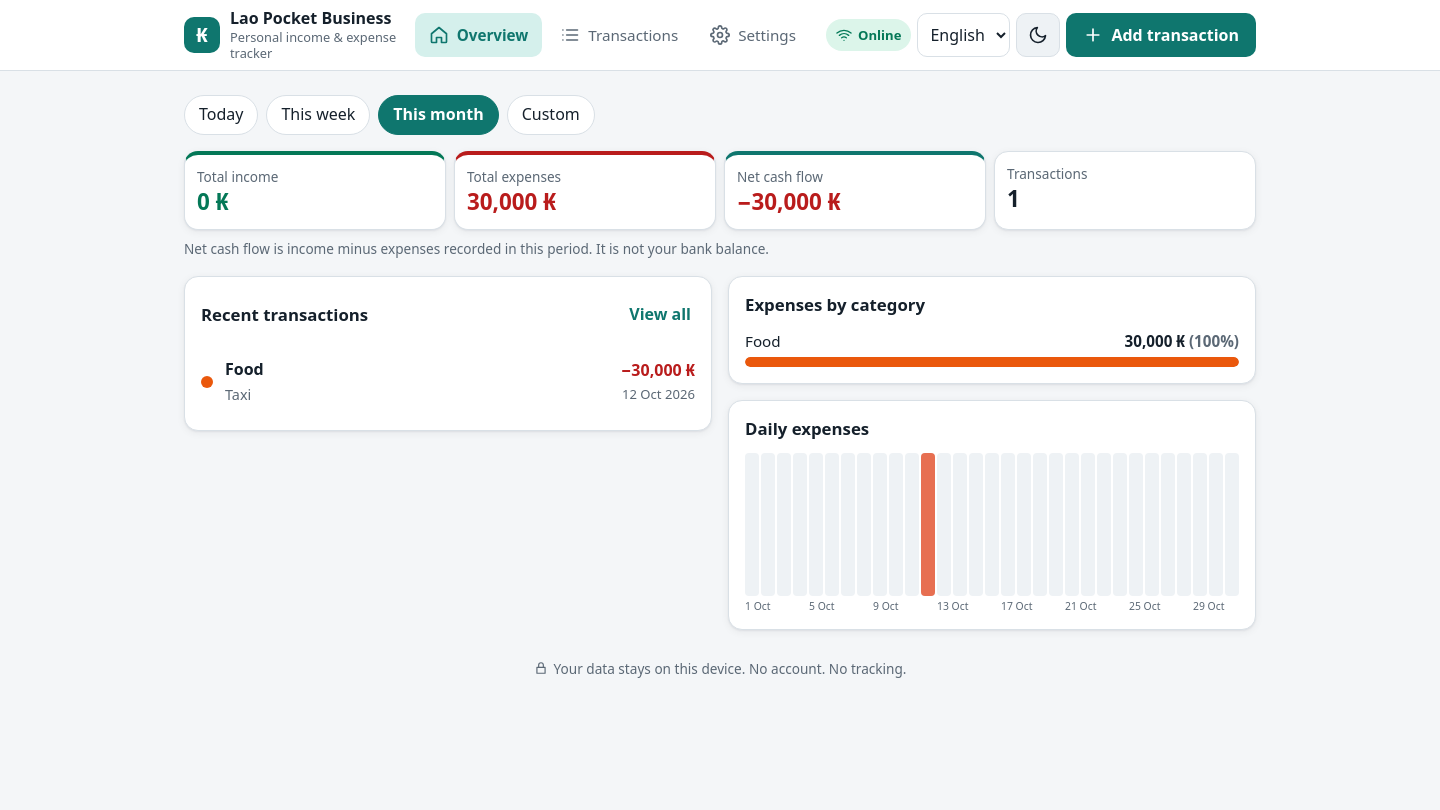
Test: H1: a failed save is never shown as saved › editing: the record and storage stay unchanged
Step 1. Click the button "Food Taxi −30,000 ₭ 12 Oct 2026" → {"x": 244, "y": 369}, box [193,349,703,414]
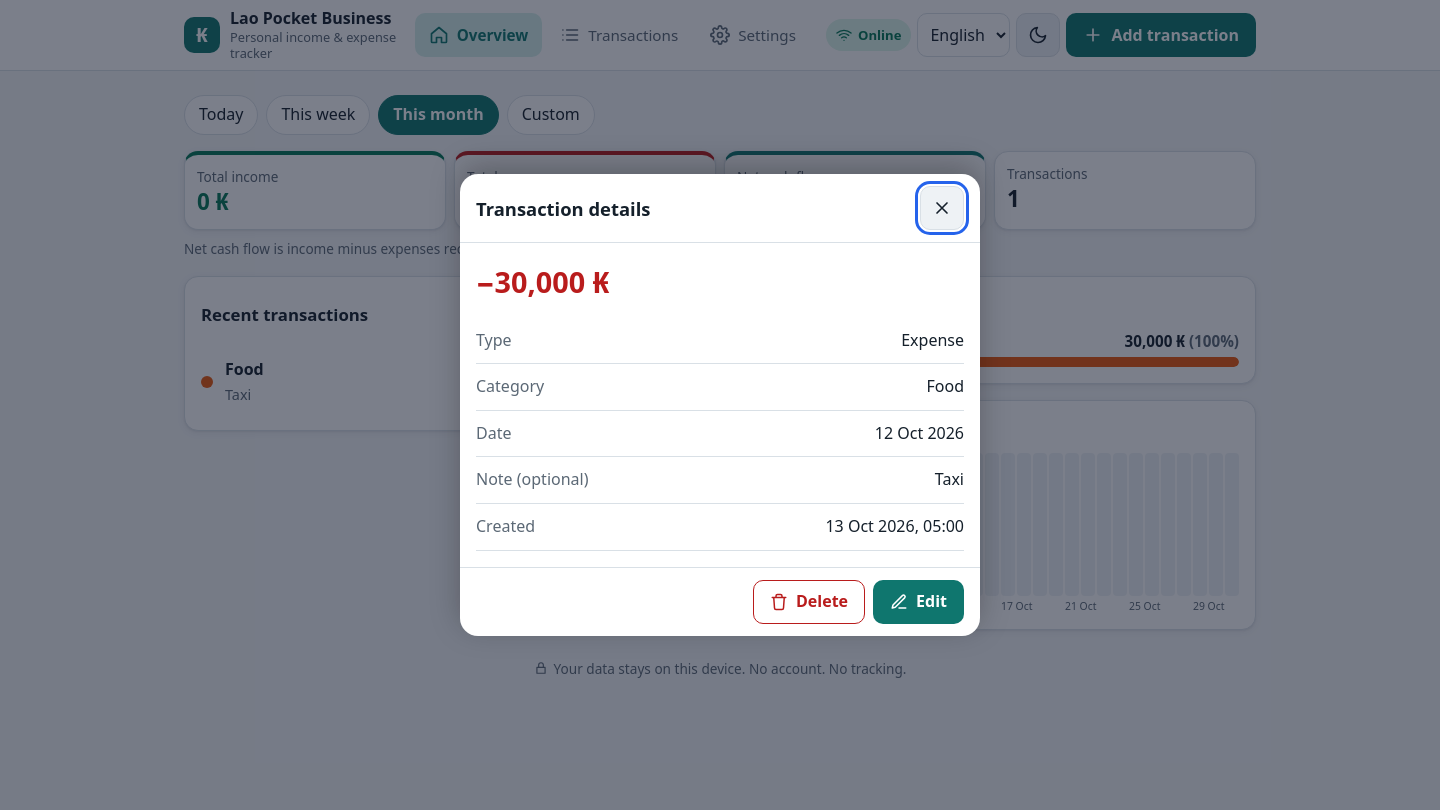
Step 2. Click the button "Edit" → {"x": 919, "y": 602}, box [873,580,964,624]
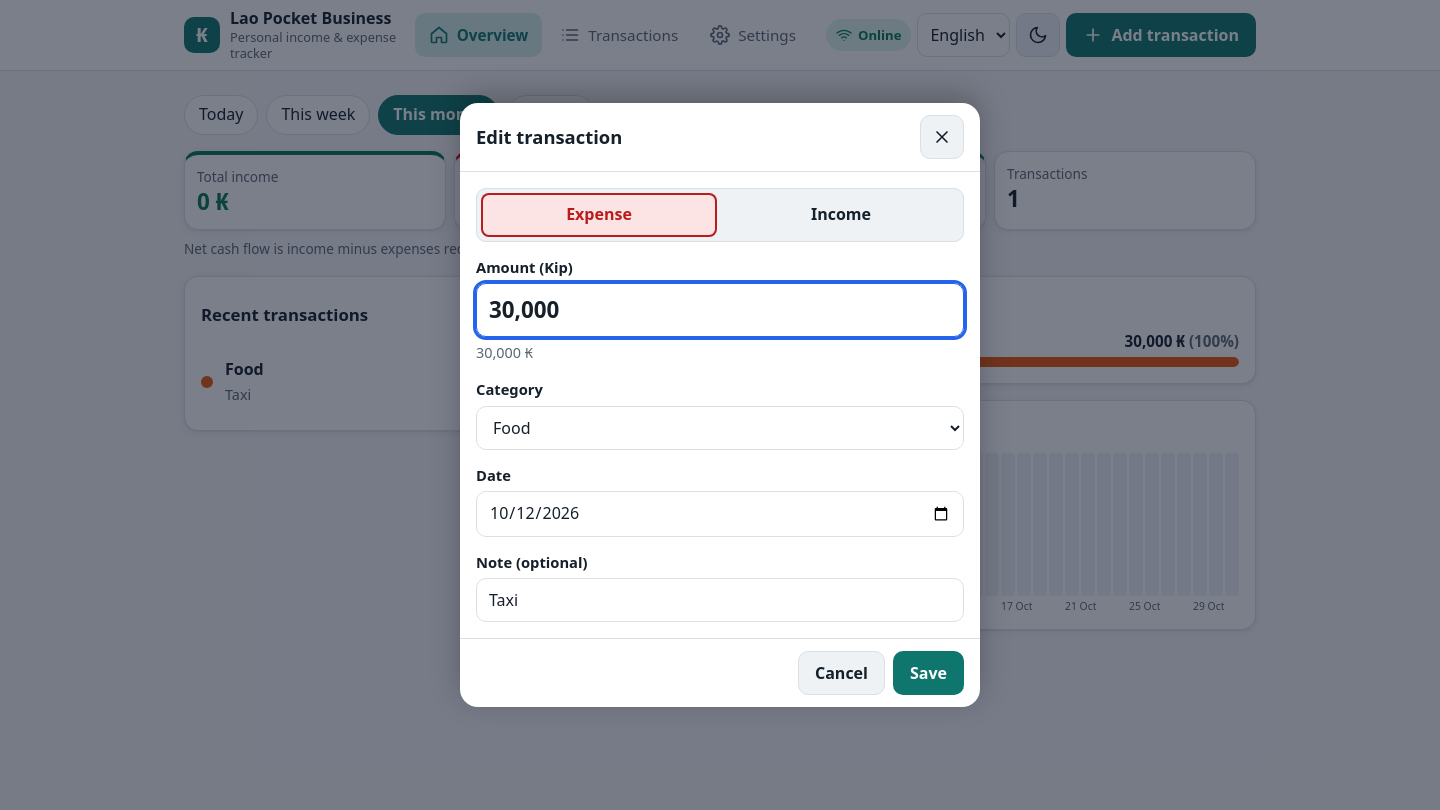
Step 3. Replace the text in the field labelled "Amount (Kip)" with "99000" → {"x": 720, "y": 310}, box [476,283,964,337]
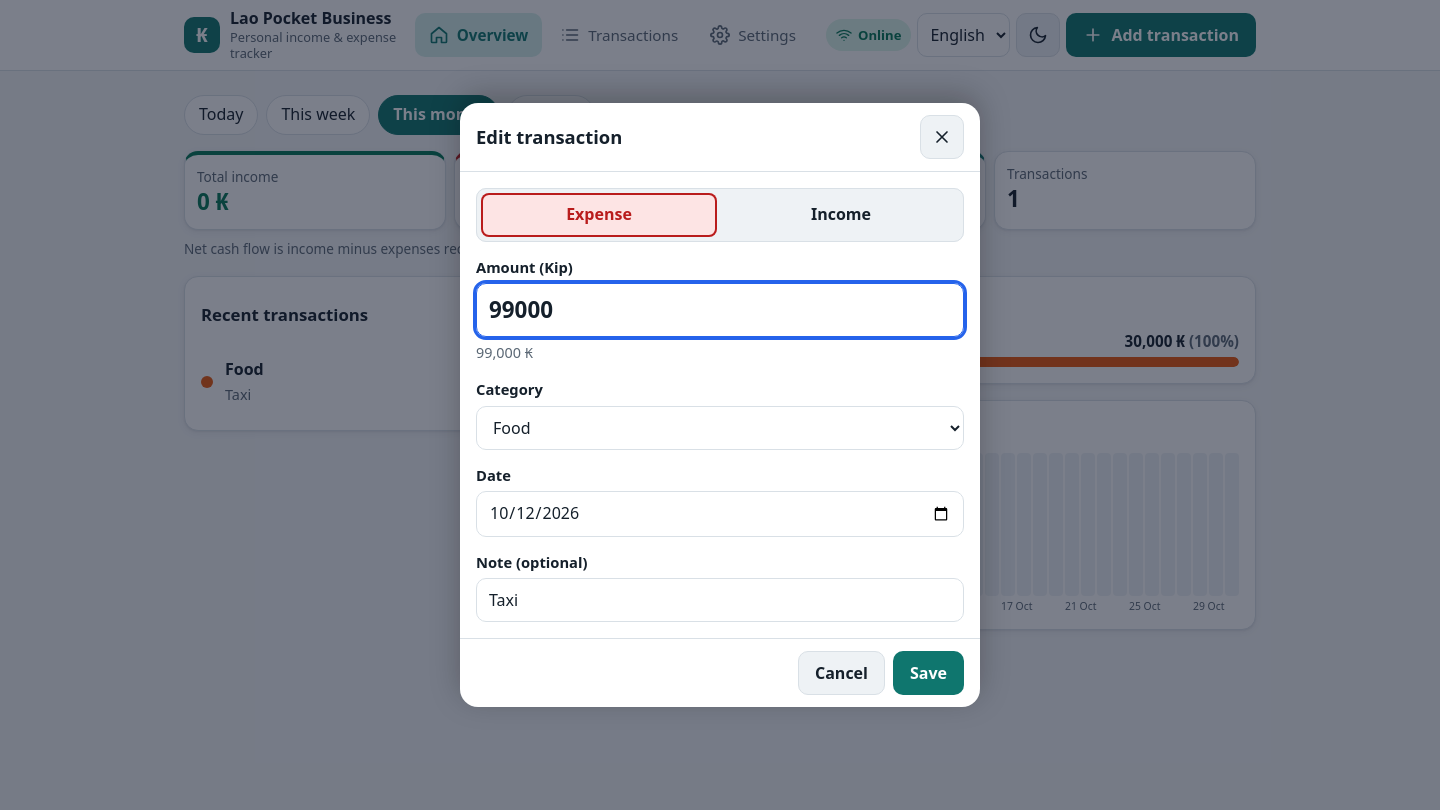
Step 4. Click the button "Save" → {"x": 928, "y": 673}, box [893,651,964,695]
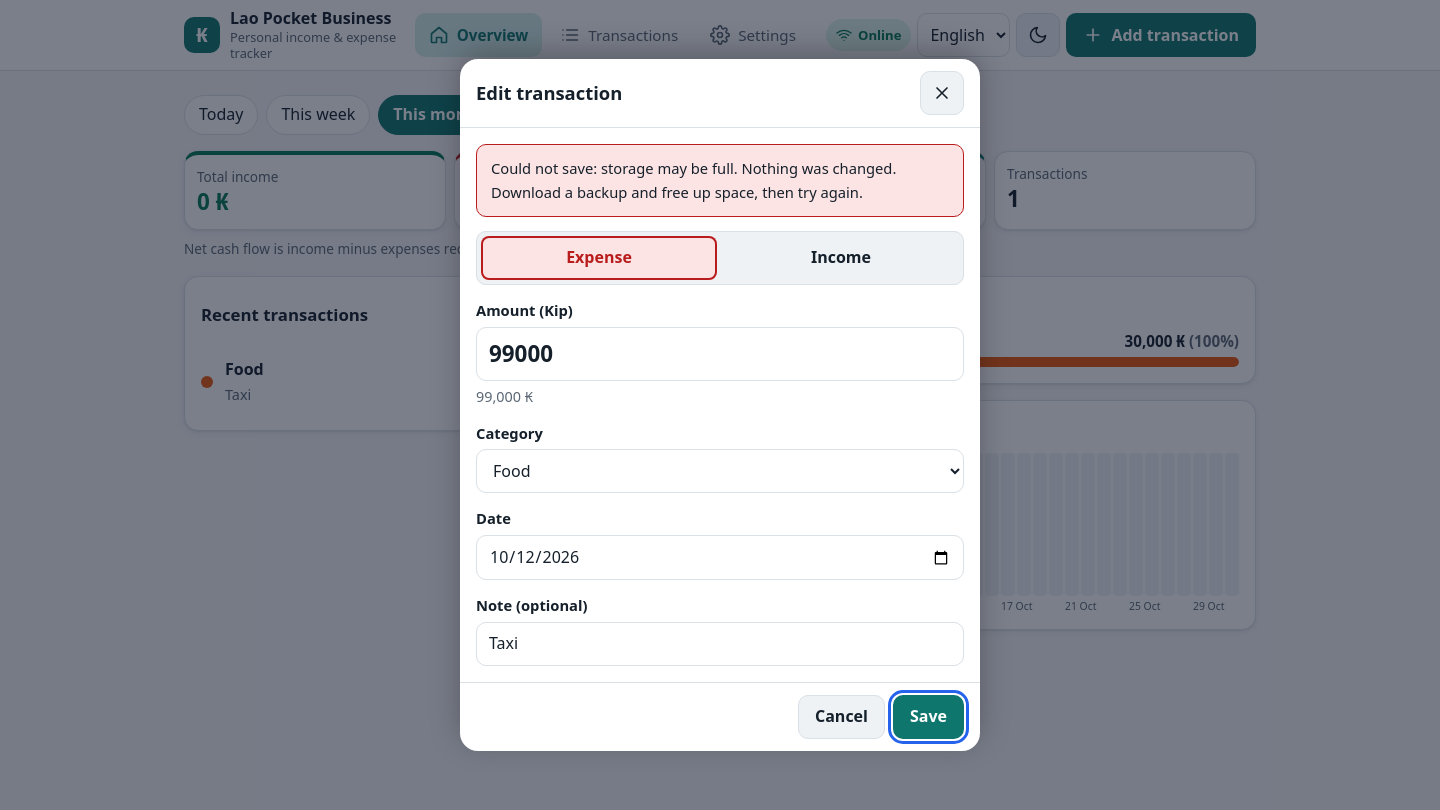
Expected: the message with test id "form-save-error" is shown, [476,144,964,217]
